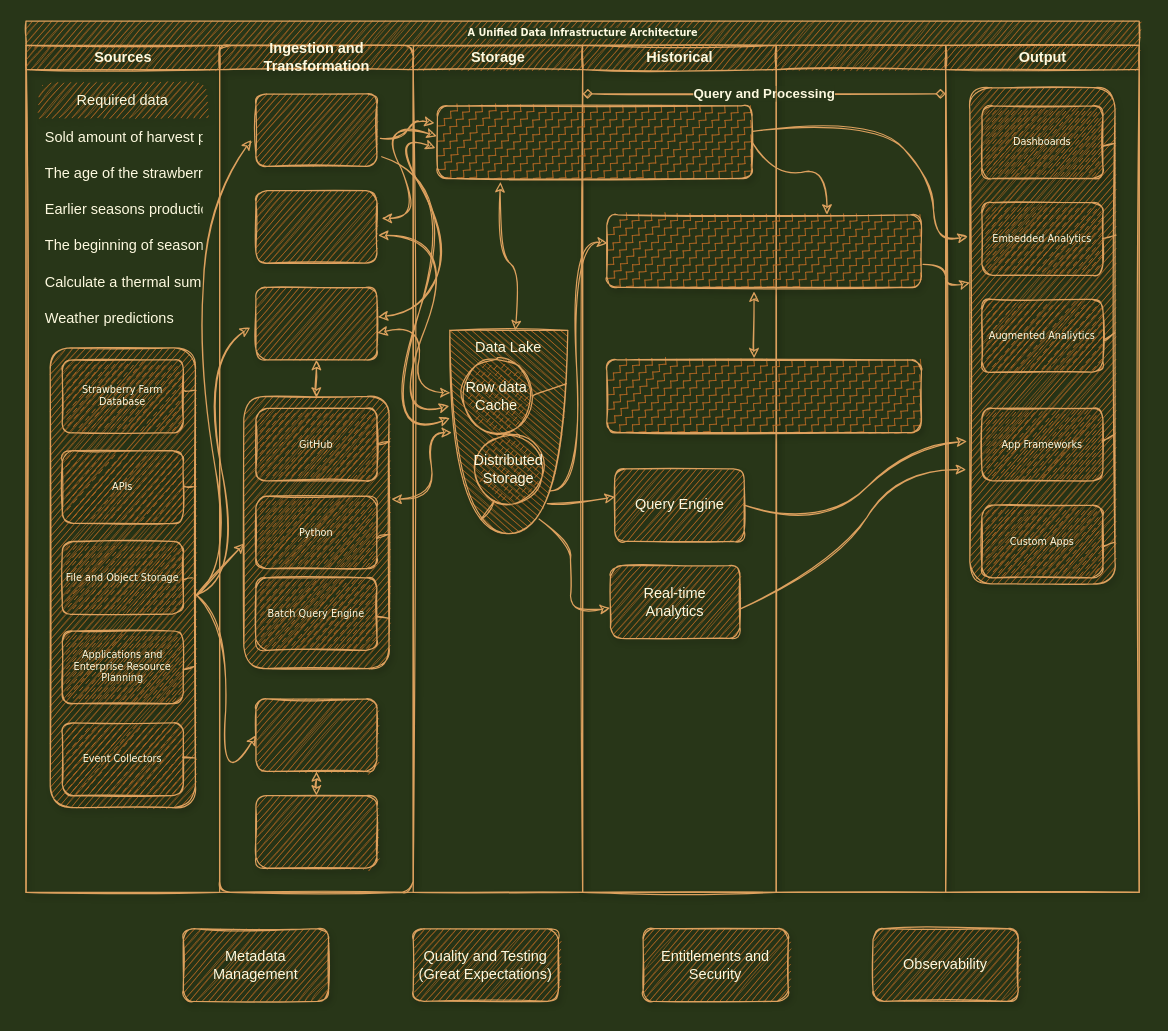
This 1168x1031 diagram has some shape labels left out. Here are the shapes that lost their labels. From the top down, the centre of each, then its label:
At point (317, 131): "Connectors".
At point (595, 143): "Data Warehouse".
At point (317, 228): "Data Modelling".
At point (765, 252): "Data Science Platform".
At point (317, 324): "Workflow Manager".
At point (765, 397): "Data Science and Machine Learning Libraries".
At point (861, 470): "Predictive".
At point (317, 736): "Event Streaming".
At point (317, 833): "Stream Processing".
